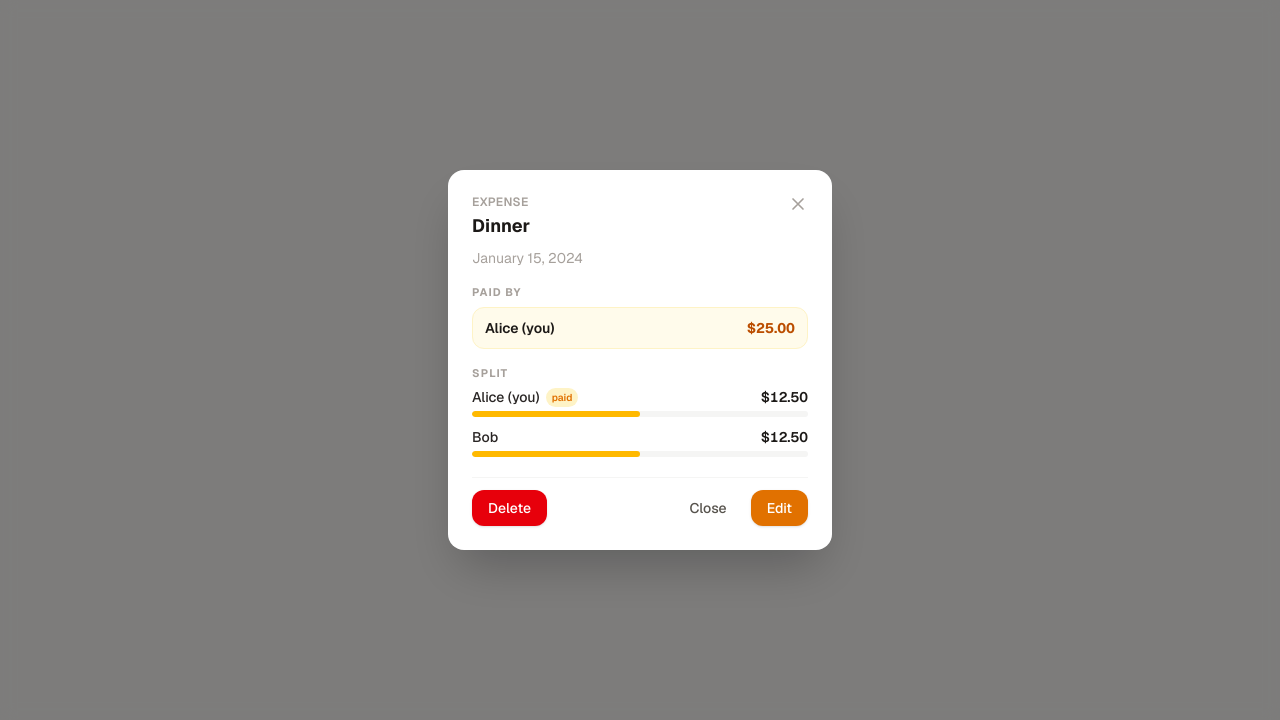
Scenario: ExpenseDetailModal — Save changes button disabled until something changes › is disabled when the form is opened with no changes
Click the button with aria-label "edit expense" at (779, 508), box [751, 490, 808, 526]
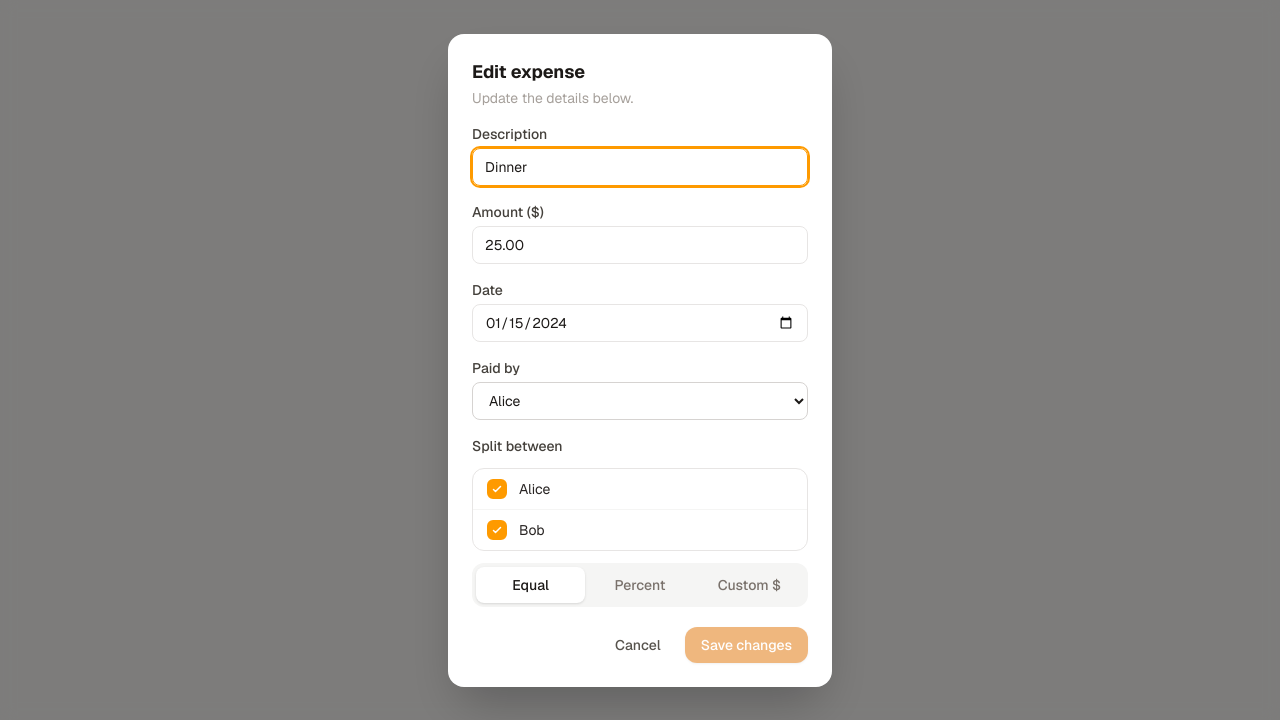
expect the button "Save changes" is disabled: met, box [685, 626, 808, 662]
